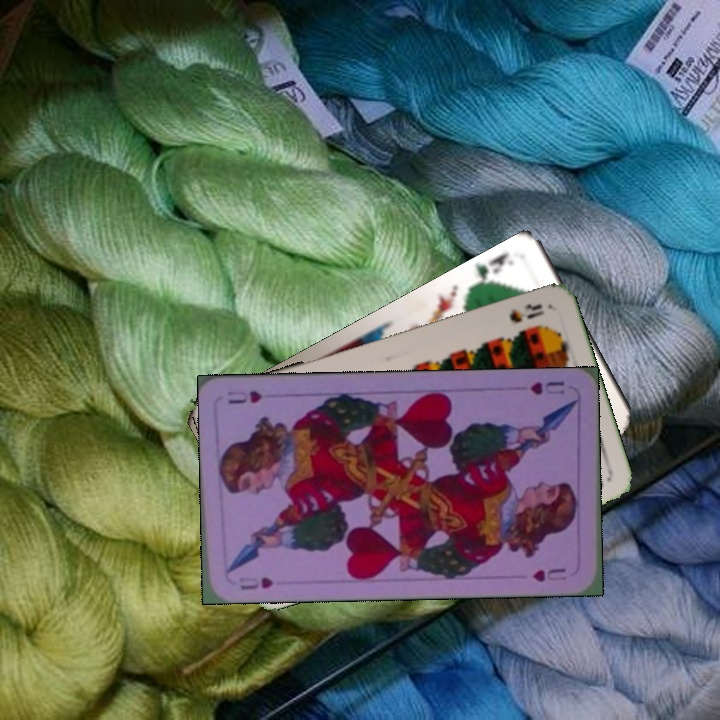GK: (471, 248, 517, 288)
HU: (526, 377, 567, 397), (235, 573, 276, 593)
S8: (505, 299, 547, 326)
